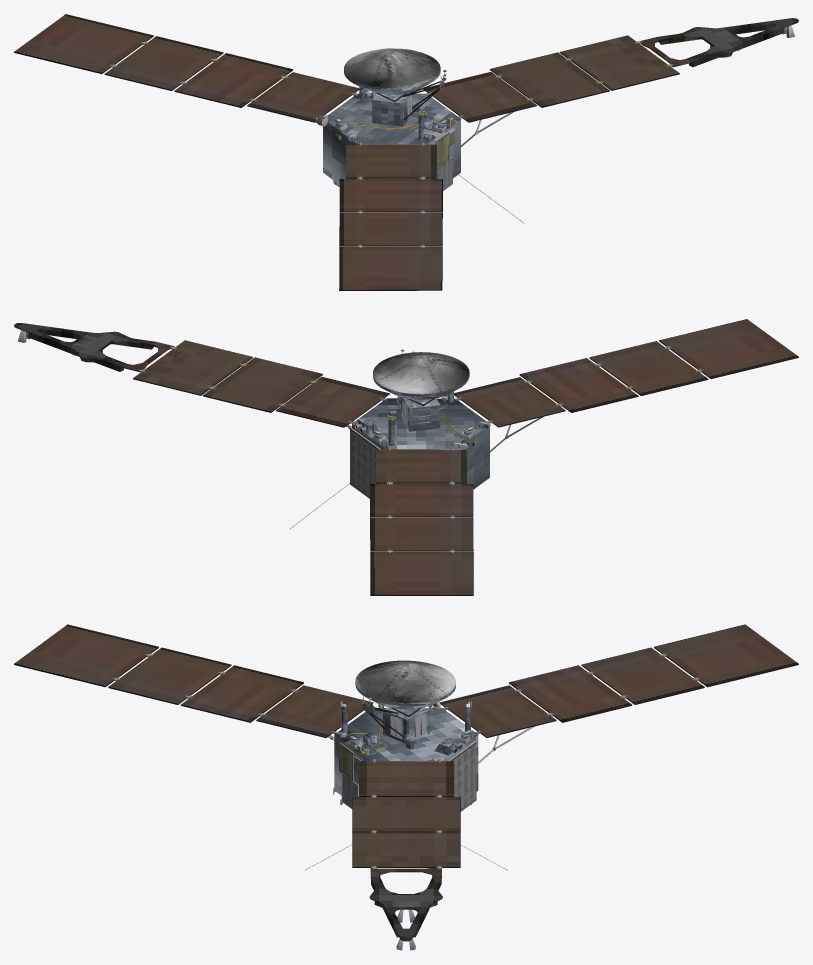
The model's file is juno.glb.
3 renders of one model, top to bottom at view 1: azimuth 30°, elevation 25°; view 2: azimuth 150°, elevation 25°; view 3: azimuth 270°, elevation 25°, orthographic. The views are drawn at different scales.
Visible parts, largest first — view 1: shiny_panels_Geometry-Body.021, dish_bottom_Geometry-Mesh, dish_top_Geometry-Mesh.002, solar_panels_Geometry-Body.006, black_krinkle_Geometry-Body.007, tex_01_Geometry-Body.003; view 2: shiny_panels_Geometry-Body.021, dish_bottom_Geometry-Mesh, dish_top_Geometry-Mesh.002, tex_01_Geometry-Body.003, solar_panels_Geometry-Body.006, black_krinkle_Geometry-Body.007; view 3: shiny_panels_Geometry-Body.021, dish_bottom_Geometry-Mesh, tex_01_Geometry-Body.003, dish_top_Geometry-Mesh.002, solar_panels_Geometry-Body.006, black_krinkle_Geometry-Body.007.
Boxes of the visible parts, bbox=[...] form: shiny_panels_Geometry-Body.021: bbox=[14, 14, 679, 289]; dish_bottom_Geometry-Mesh: bbox=[323, 69, 460, 186]; dish_top_Geometry-Mesh.002: bbox=[344, 48, 440, 88]; solar_panels_Geometry-Body.006: bbox=[417, 18, 798, 290]; black_krinkle_Geometry-Body.007: bbox=[14, 35, 679, 290]; tex_01_Geometry-Body.003: bbox=[110, 25, 794, 247]; shiny_panels_Geometry-Body.021: bbox=[133, 319, 798, 594]; dish_bottom_Geometry-Mesh: bbox=[352, 374, 490, 489]; dish_top_Geometry-Mesh.002: bbox=[373, 352, 469, 393]; tex_01_Geometry-Body.003: bbox=[17, 330, 702, 552]; solar_panels_Geometry-Body.006: bbox=[14, 323, 174, 371]; black_krinkle_Geometry-Body.007: bbox=[133, 340, 798, 595]; shiny_panels_Geometry-Body.021: bbox=[14, 624, 798, 866]; dish_bottom_Geometry-Mesh: bbox=[334, 682, 478, 800]; tex_01_Geometry-Body.003: bbox=[112, 653, 699, 950]; dish_top_Geometry-Mesh.002: bbox=[355, 660, 455, 703]; solar_panels_Geometry-Body.006: bbox=[369, 868, 442, 941]; black_krinkle_Geometry-Body.007: bbox=[14, 647, 798, 867].
Bounding box in the file's own units: 17.65 × 4.26 × 18.54.
9 materials, 9 textured.
